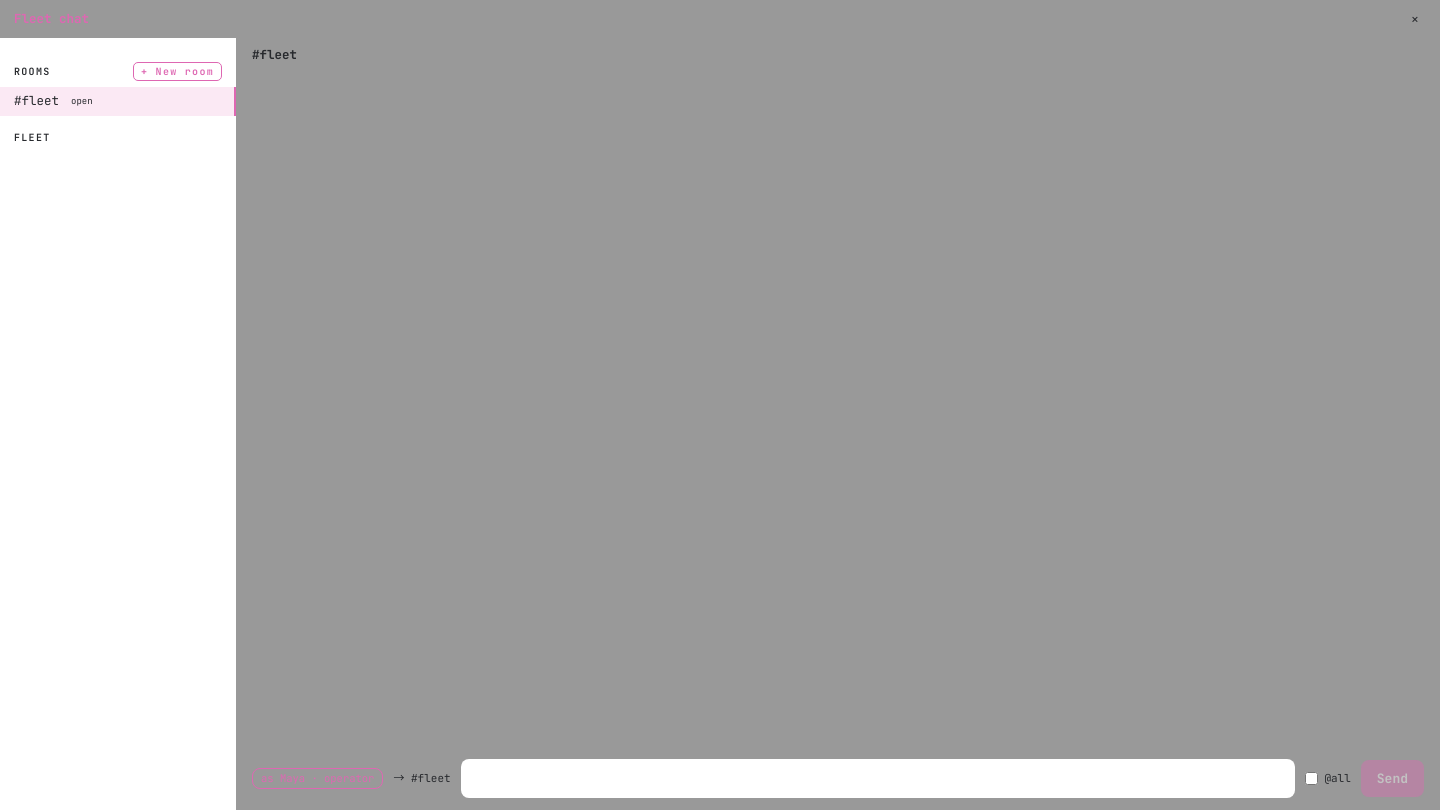
Test case: ChatroomPane — HED-74c operator composer + room management wiring › '+ New room' is enabled once the operator status poll confirms availability, and opens the create-room modal
This screenshot has width=1440, height=810.
Click the button with test id "comms-new-room-btn".
click(178, 72)  # box [133, 62, 222, 81]
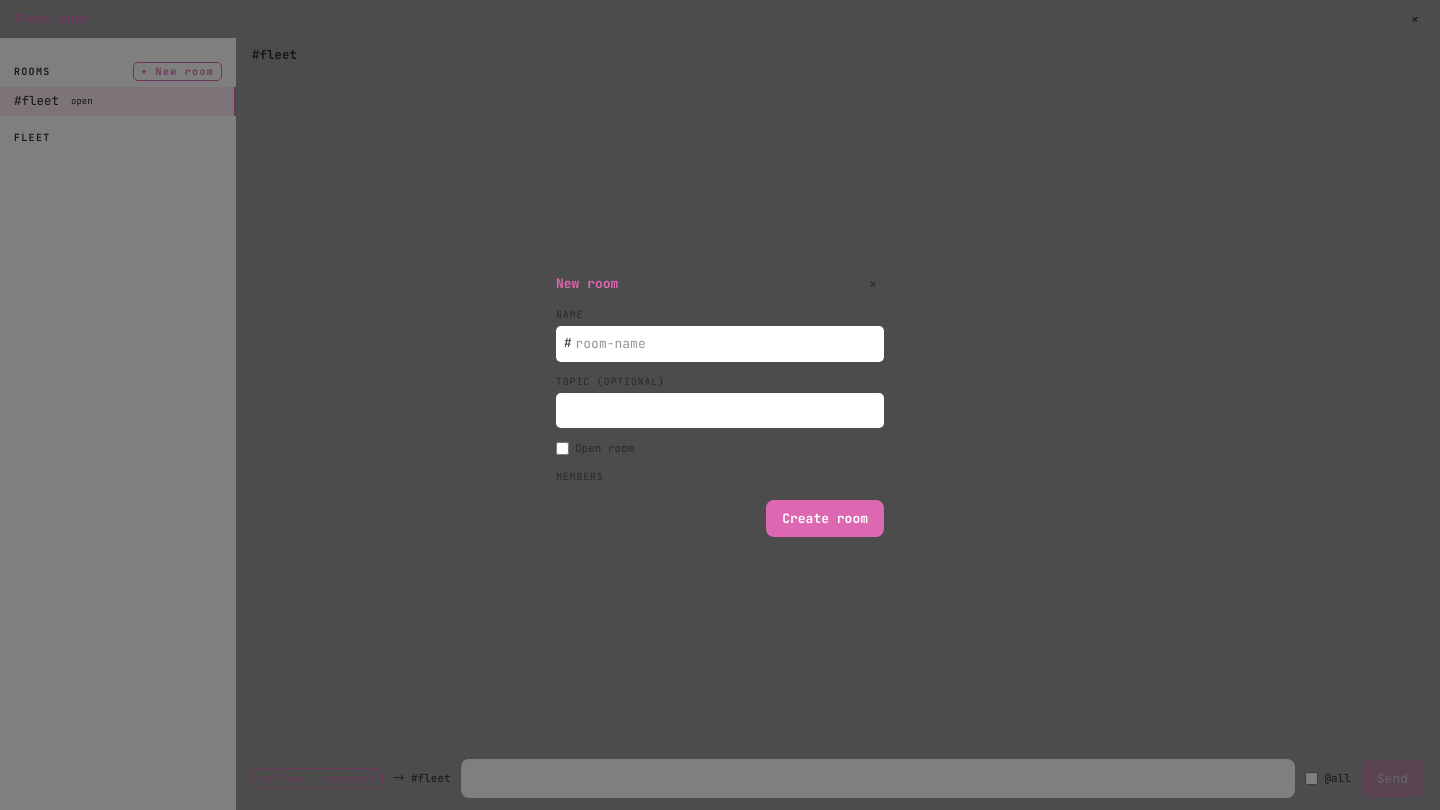
Check: the element with test id "comms-room-modal" is shown
